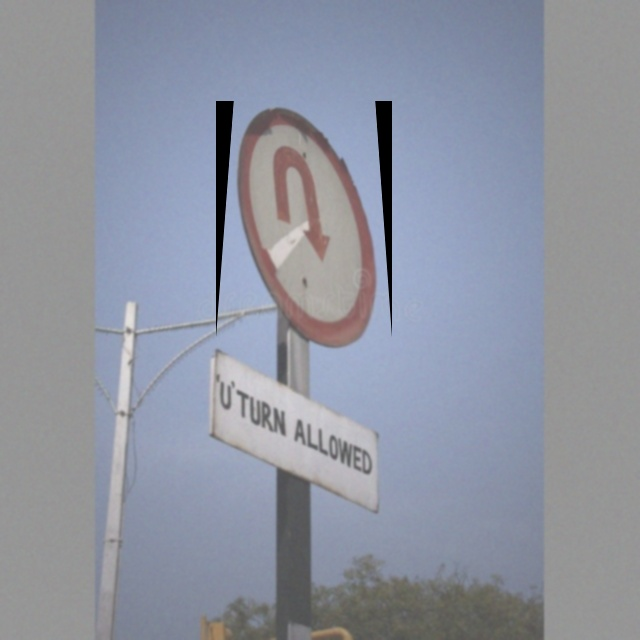U_Turn_Ahead: (216, 101, 392, 338)
